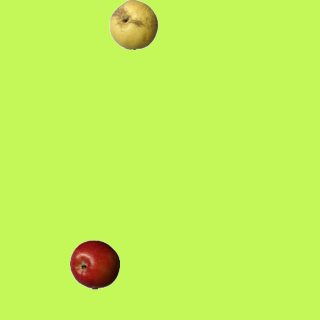Apple Braeburn: (69, 239, 119, 289)
Apple Golden 1: (108, 0, 158, 49)
